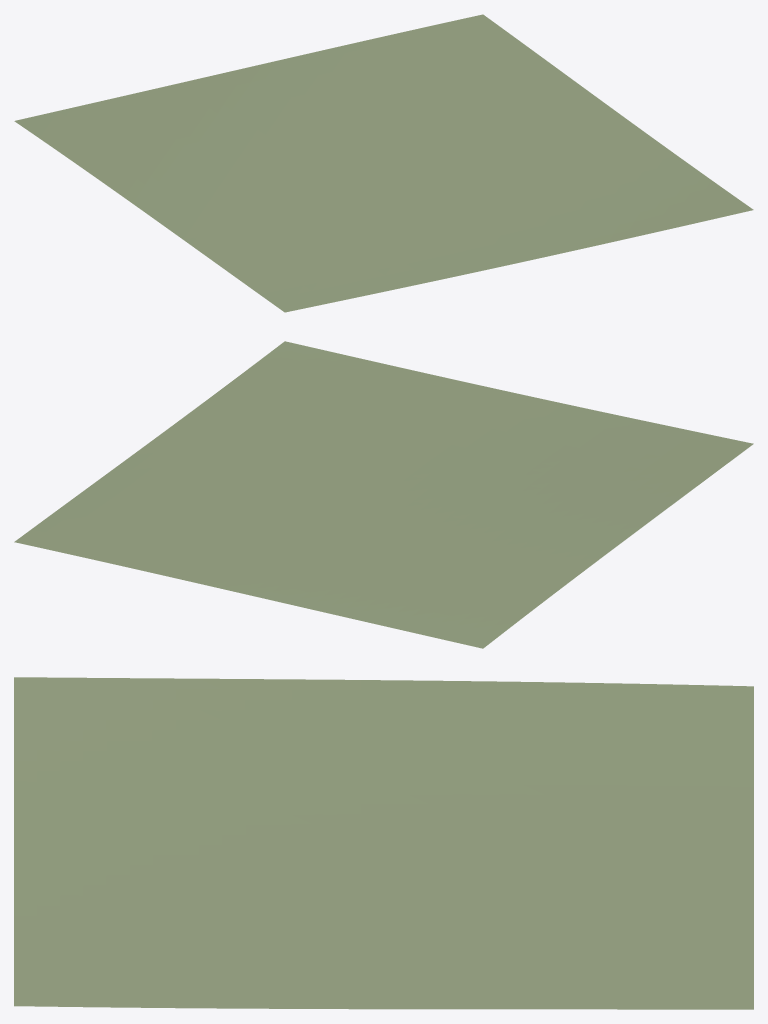
File: expanse-1-24.glb
3 views of the same model, one above another, from view 1: azimuth 30°, elevation 25°; view 2: azimuth 150°, elevation 25°; view 3: azimuth 270°, elevation 25° (orthographic). The views are drawn at different scales.
Parts seen in each view (by area): view 1: expanse-1-24; view 2: expanse-1-24; view 3: expanse-1-24.
Part boxes in pixels (x1,y1,x2,y2): expanse-1-24: [14, 14, 753, 312]; expanse-1-24: [14, 341, 753, 648]; expanse-1-24: [14, 677, 753, 1009].
Bounding box in the file's own units: 256 × 7.58 × 256.
